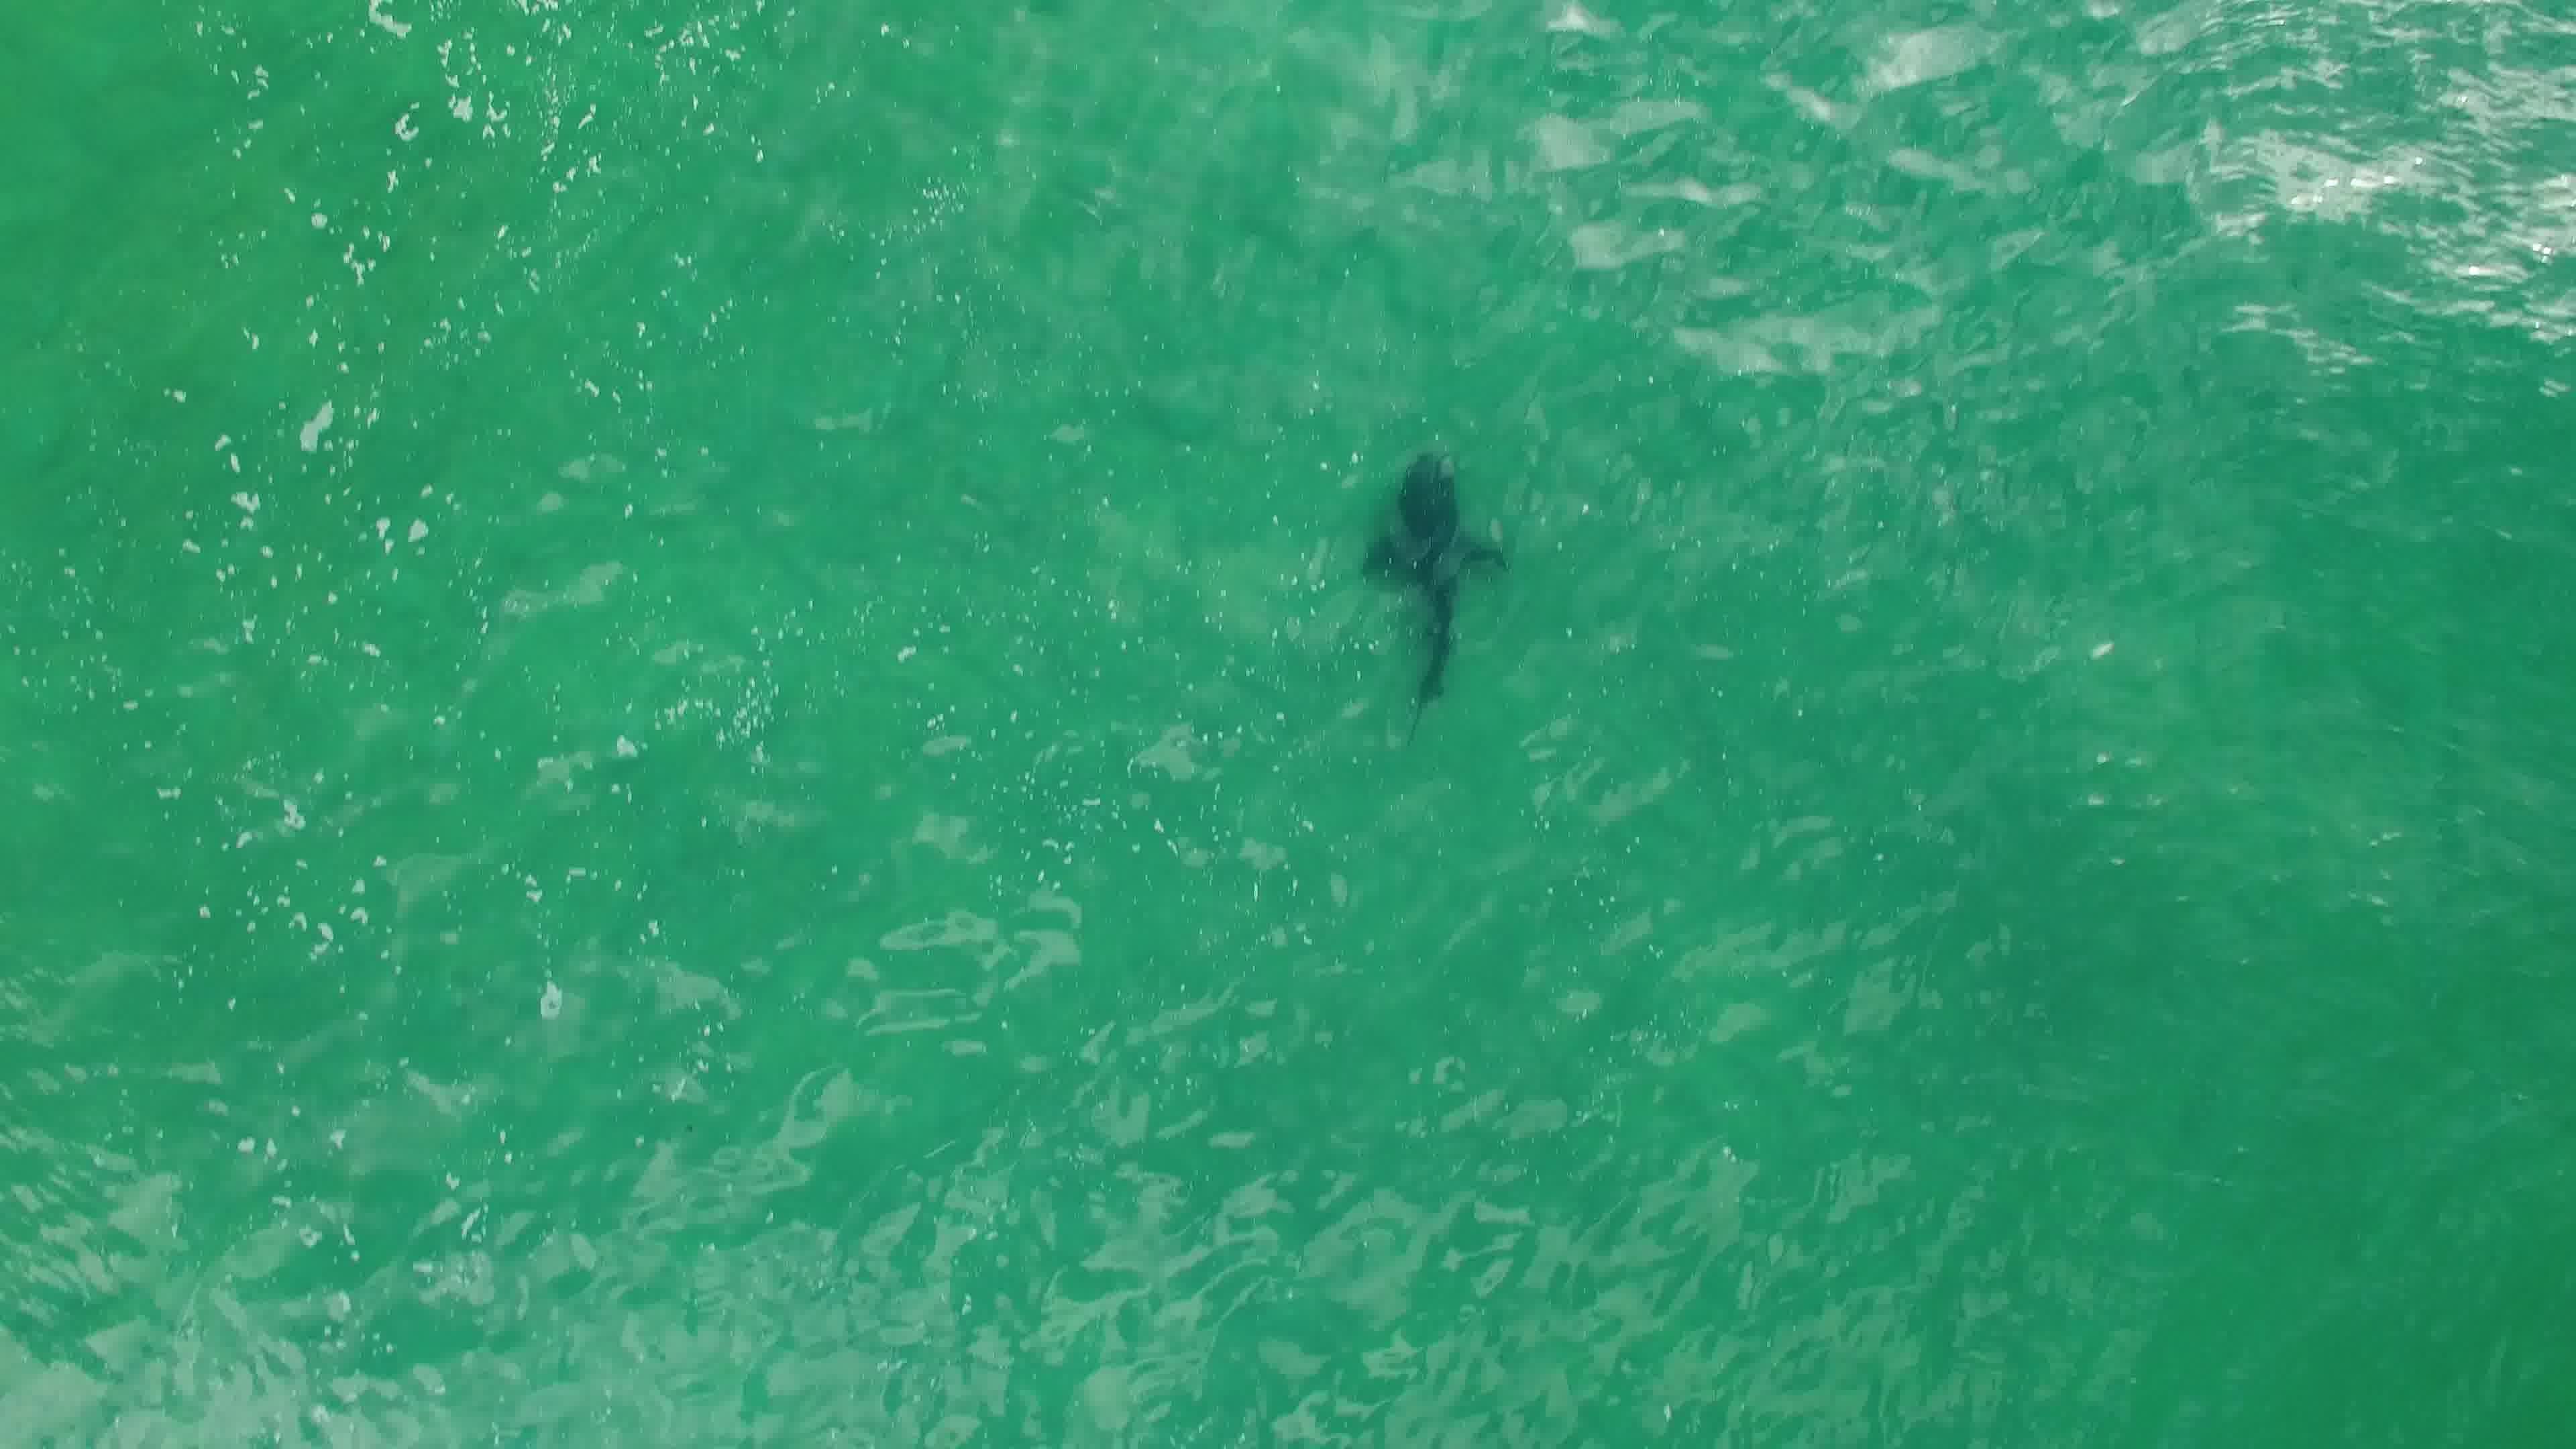shark: (1353, 448, 1516, 738)
